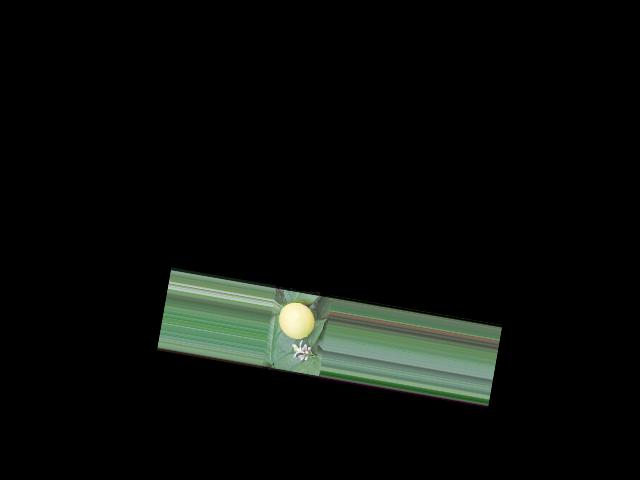lemon: (274, 297, 317, 342)
